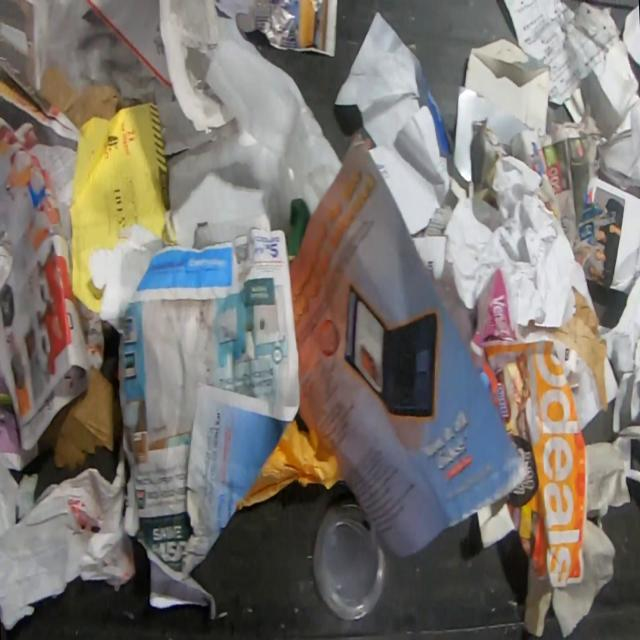cardboard: (236, 419, 344, 511), (37, 367, 122, 470), (463, 36, 550, 134), (38, 65, 139, 130)
rigid_plastic: (311, 496, 385, 620)
